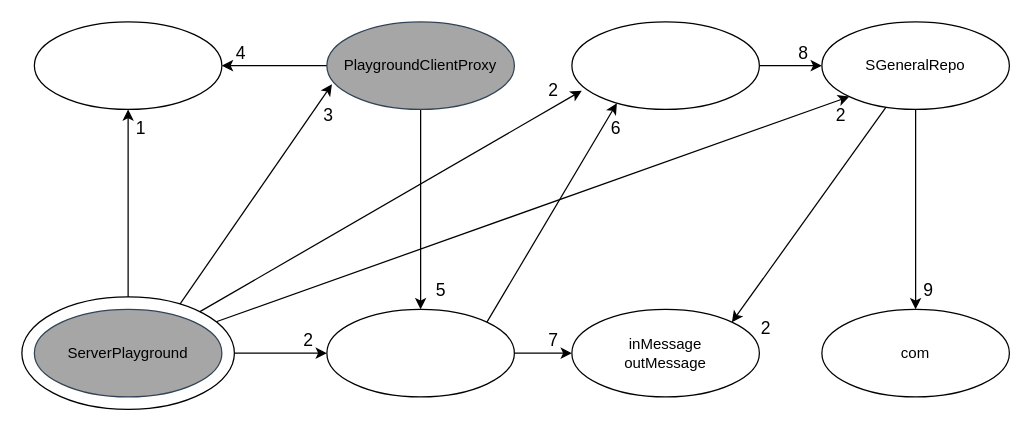
Image size: 1031x431. Some labels were removed from this diagram. The shapes that lost their labels are listed below. From the top down, each one's centre as x and y in pixels, then its label:
At (127,65): "scom".
At (665,65): "M Playground".
At (420,352): "I Playground".
